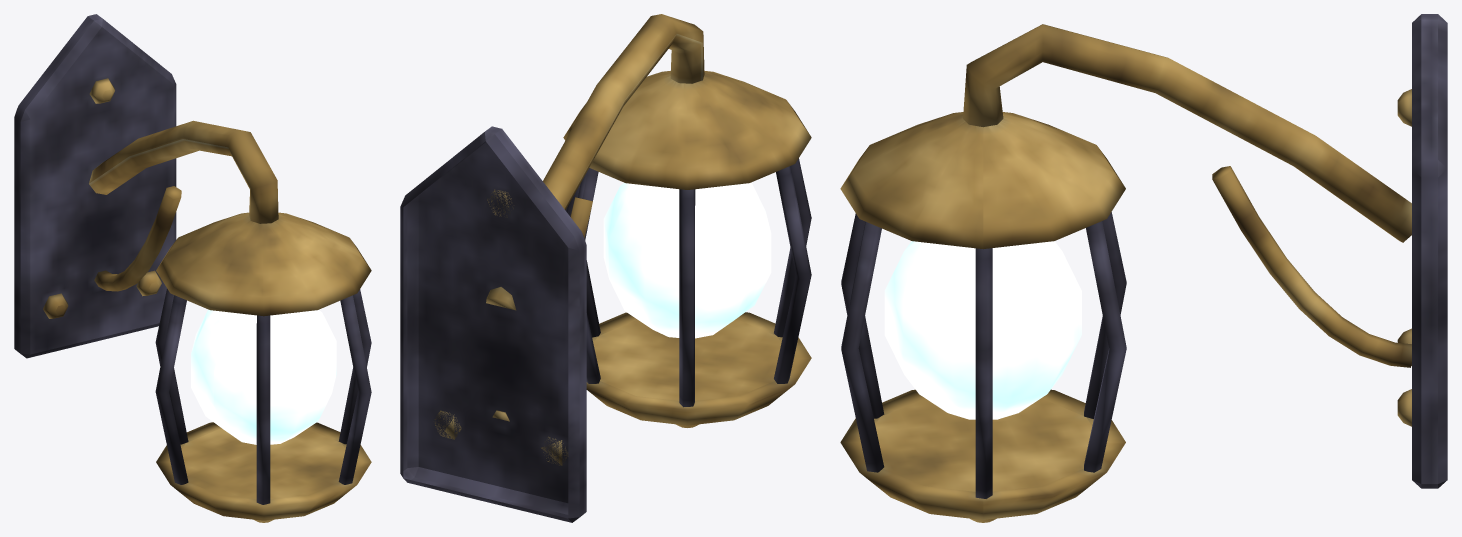
File: Promenade_Light.fbx
3 renders of one model, left to right at view 1: azimuth 30°, elevation 25°; view 2: azimuth 150°, elevation 25°; view 3: azimuth 270°, elevation 25°, orthographic. The views are drawn at different scales.
Visible parts, largest first — view 1: Promenade_Light; view 2: Promenade_Light; view 3: Promenade_Light.
Part boxes in pixels (x1,y1,x2,y2): Promenade_Light: [14, 14, 371, 522]; Promenade_Light: [400, 14, 811, 522]; Promenade_Light: [840, 14, 1447, 522].
Size of the model in its own units: 0.3853 by 0.6501 by 0.714.
